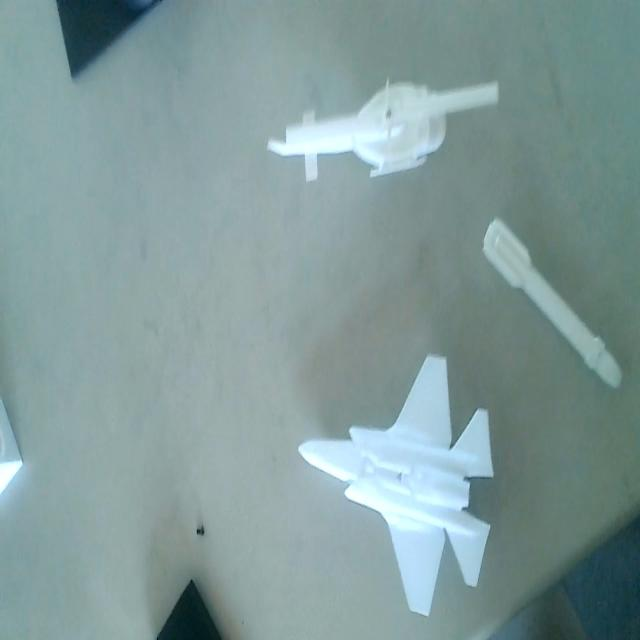Helicopter: (266, 77, 501, 180)
Jet: (296, 354, 498, 624)
Rocket: (479, 216, 626, 393)
